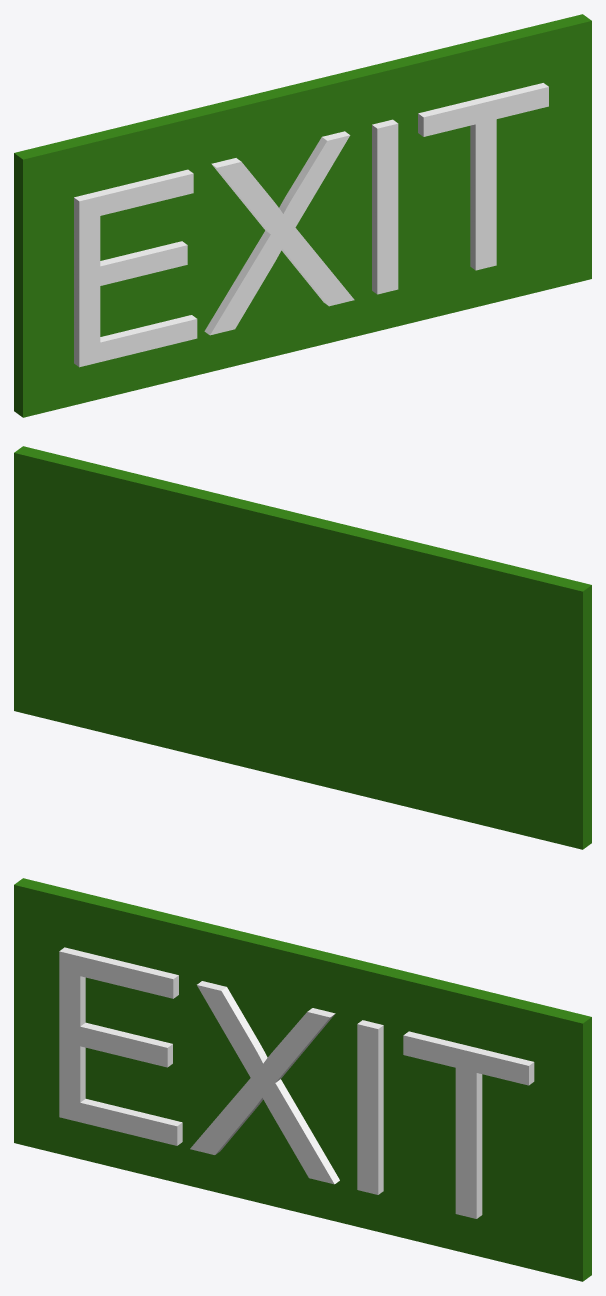
Rendered from CartelExit.fbx.
The picture shows the model from 3 angles, top to bottom: view 1: azimuth 30°, elevation 25°; view 2: azimuth 150°, elevation 25°; view 3: azimuth 330°, elevation 25°; orthographic projection.
Parts seen in each view (by area): view 1: Box201, Text004; view 2: Box201; view 3: Box201, Text004.
Boxes of the visible parts, bbox=[...] form: Box201: bbox=[14, 14, 591, 417]; Text004: bbox=[74, 83, 548, 367]; Box201: bbox=[14, 446, 591, 849]; Box201: bbox=[14, 878, 591, 1281]; Text004: bbox=[59, 947, 534, 1218].
Bounding box in the file's own units: 87.61 × 38 × 3.9.
